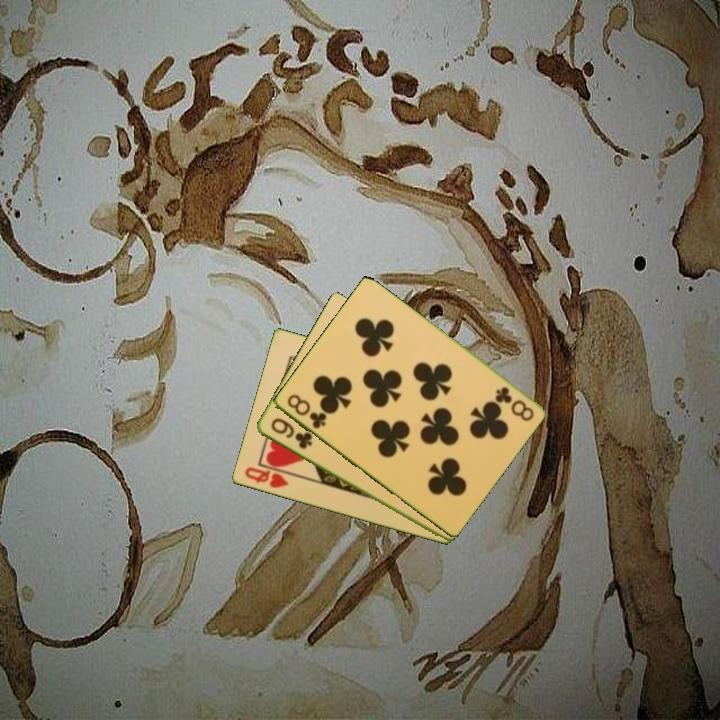8c: (283, 390, 329, 432), (491, 383, 537, 424)
9c: (267, 414, 315, 452)
Qh: (241, 464, 291, 491)
